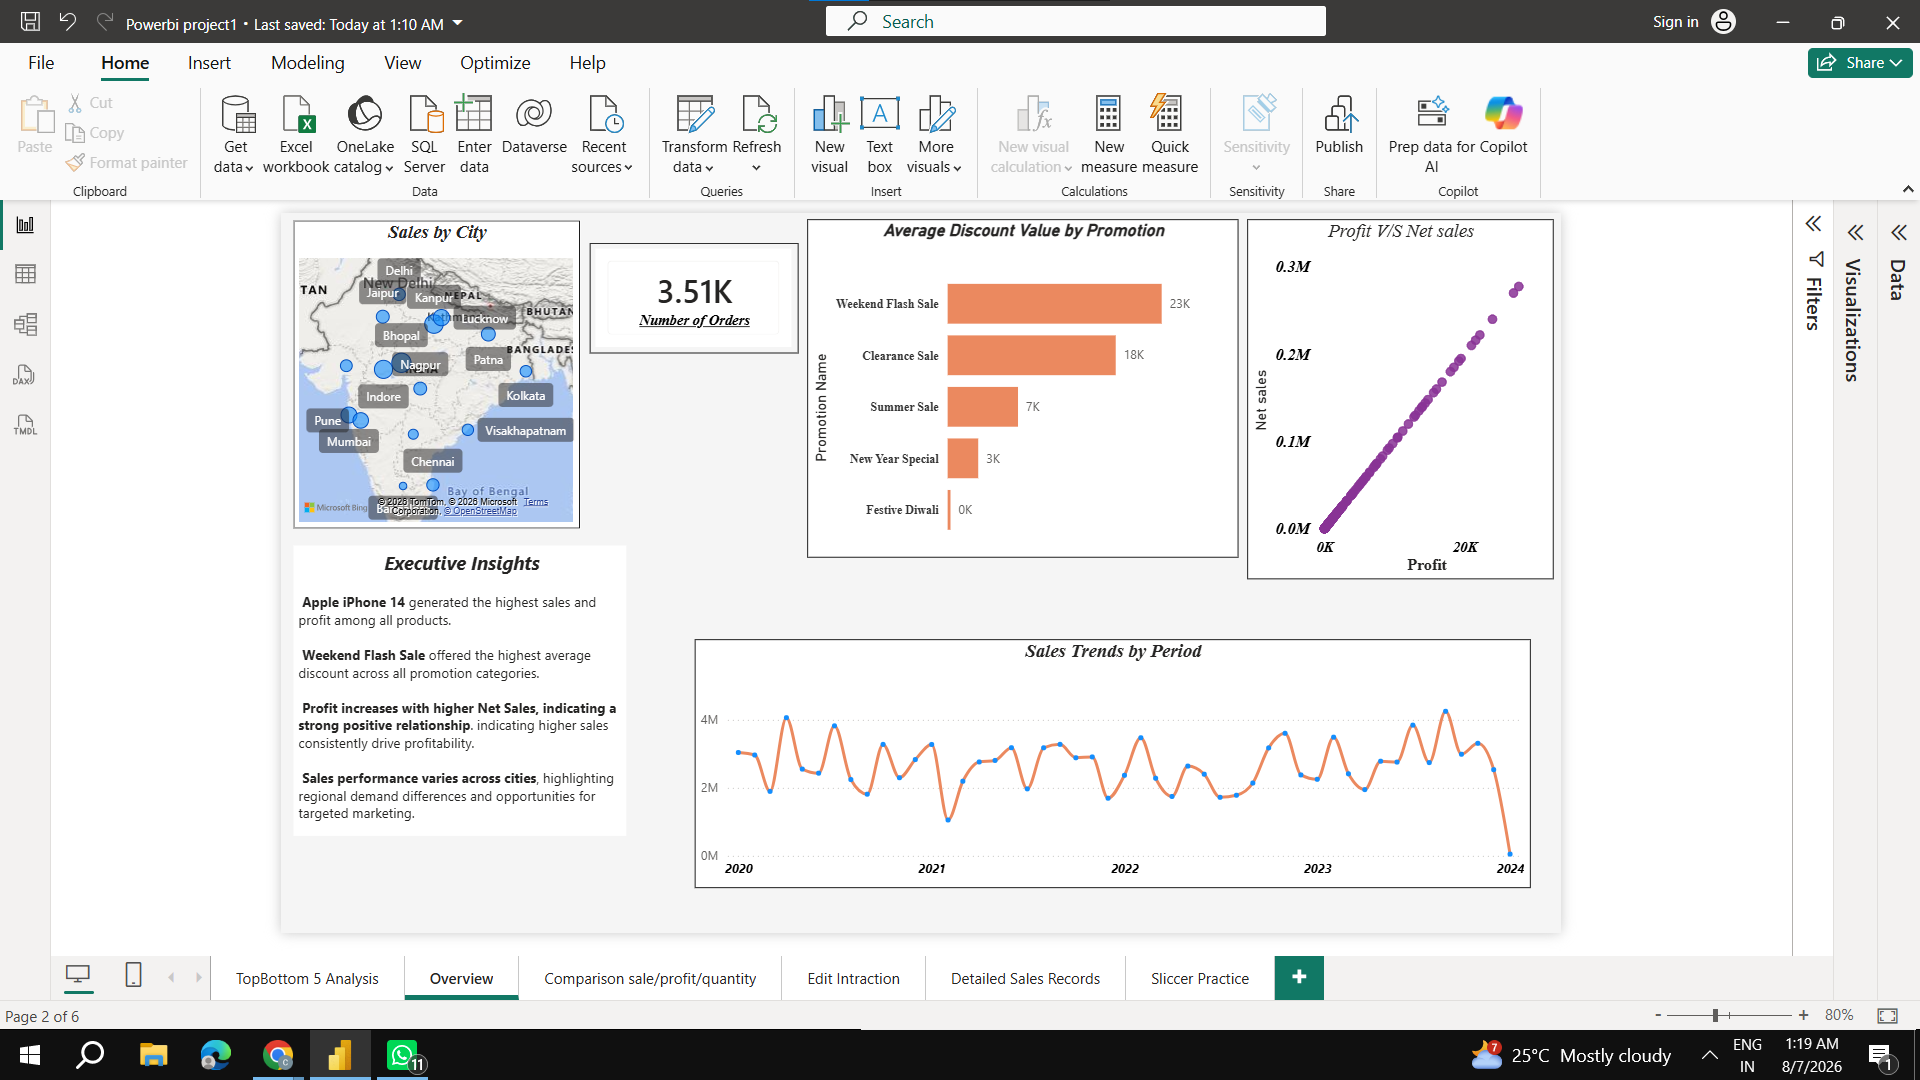

The dashboard page shown, as its layout file describes it:
{"tool":"powerbi","page":{"name":"Overview","canvas":[1280,720],"ordinal":1},"visuals":[{"type":"lineChart","title":" Sales Trends by Period","fields":{"Y":["Sum(Fact Table.Total Sales )"],"Category":["Date Table 1.Date.Variation.Date Hierarchy.Year","Date Table 1.Date.Variation.Date Hierarchy.Quarter","Date Table 1.Date.Variation.Date Hierarchy.Month","Date Table 1.Date.Variation.Date Hierarchy.Day"]},"box":[413.8,426.2,835.7,248.6],"z":0},{"type":"scatterChart","title":"Profit V/S Net sales  ","fields":{"X":["Fact Table.Profit"],"Y":["Fact Table.Net sales  "]},"box":[966.7,6.7,306.7,360],"z":1000},{"type":"barChart","title":"Average  Discount Value   by Promotion ","fields":{"Y":["Avg(Fact Table.Discount Value  )"],"Category":["Dim Promotion.Promotion Name"]},"box":[526.2,6.2,431.2,338.8],"z":2000},{"type":"map","title":"Sales by City","fields":{"Category":["Dim Customers.City"],"Size":["Sum(Fact Table.Net sales  )"]},"box":[13,7,286,308],"z":3000},{"type":"cardVisual","fields":{"Data":["Count(Fact Table.Order ID)"]},"box":[308.8,30,208.8,110],"z":4000},{"type":"textbox","box":[12.5,332.5,332.5,290],"z":4002}]}

Visuals, with their boxes on the page's 1280x720 design canvas (x1, y1, x2, y2). These are canvas units, not pixel positions in the 1920x1080 screenshot, which may show the page scaled, cropped or inside an application window:
" Sales Trends by Period" lineChart: rect(414, 426, 1250, 675)
"Profit V/S Net sales  " scatterChart: rect(967, 7, 1273, 367)
"Average  Discount Value   by Promotion " barChart: rect(526, 6, 957, 345)
"Sales by City" map: rect(13, 7, 299, 315)
cardVisual - Count(Fact Table.Order ID): rect(309, 30, 518, 140)
textbox: rect(12, 332, 345, 622)
